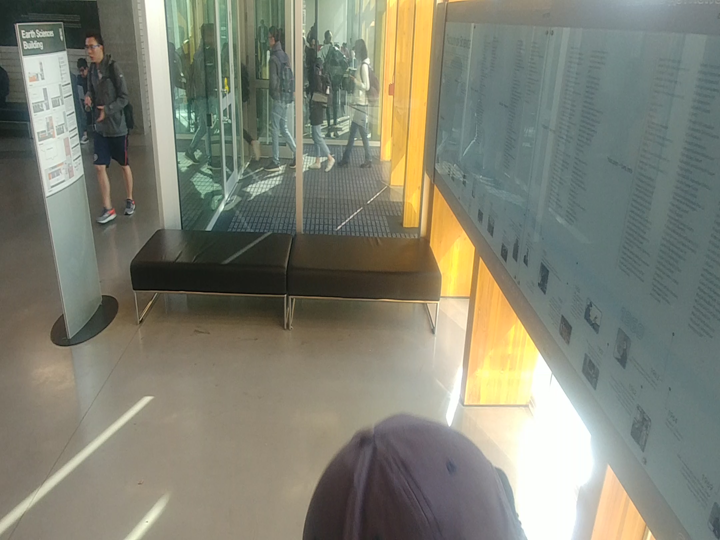face: (77, 26, 112, 70), (350, 34, 372, 66), (261, 23, 283, 51), (304, 43, 321, 72), (73, 54, 91, 80)
human: (78, 27, 146, 228), (335, 36, 384, 172), (258, 21, 297, 171), (302, 42, 341, 174)
